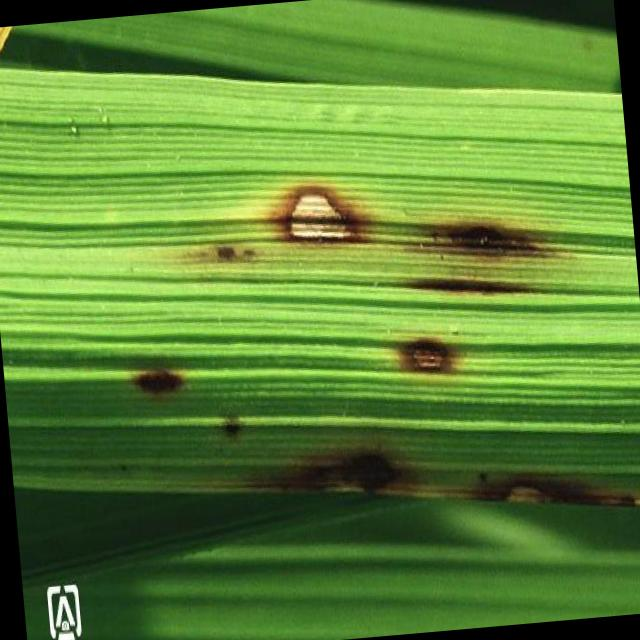Rice_Brownspot: (414, 198, 575, 288), (264, 156, 376, 255), (302, 428, 430, 504), (384, 303, 474, 380), (120, 348, 201, 400)
